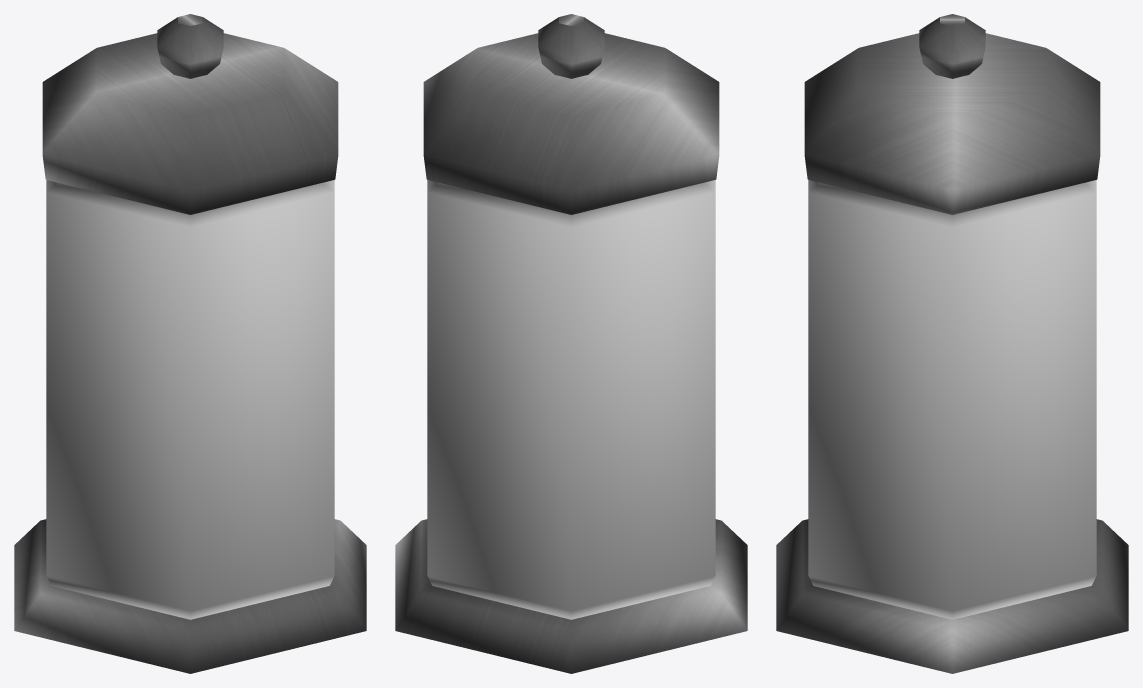
Rendered from Canister_A.FBX.
3 views of the same model, side by side, from view 1: azimuth 30°, elevation 25°; view 2: azimuth 150°, elevation 25°; view 3: azimuth 270°, elevation 25° (orthographic).
Parts seen in each view (by area): view 1: Canister_A; view 2: Canister_A; view 3: Canister_A.
Boxes of the visible parts, <box> form: Canister_A: <box>14,14,366,673</box>; Canister_A: <box>395,14,747,673</box>; Canister_A: <box>776,14,1128,673</box>.
Size of the model in its own units: 36.68 by 56.52 by 31.76.
